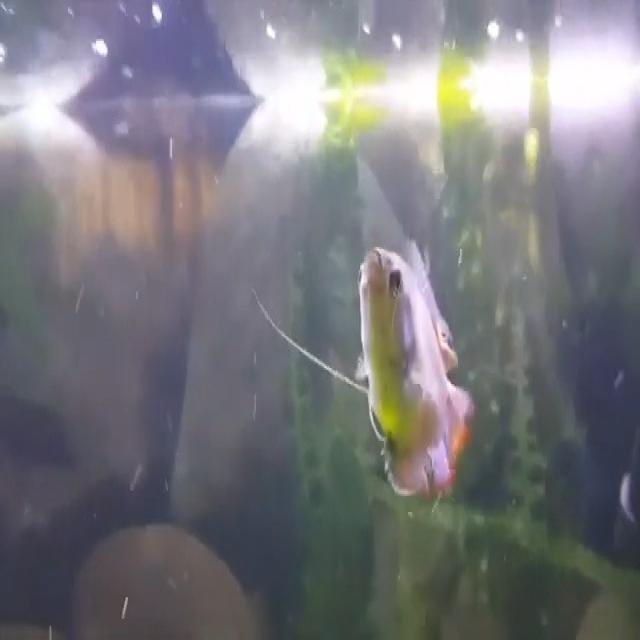fish: (349, 241, 479, 512)
